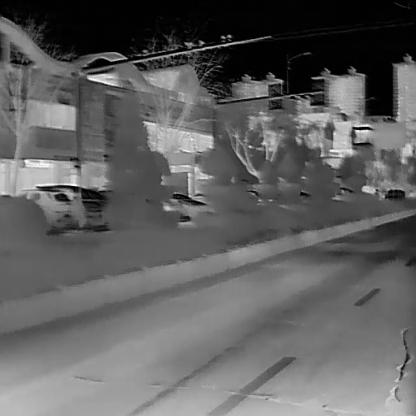car: (34, 184, 102, 229), (16, 189, 74, 229), (158, 192, 209, 223)
